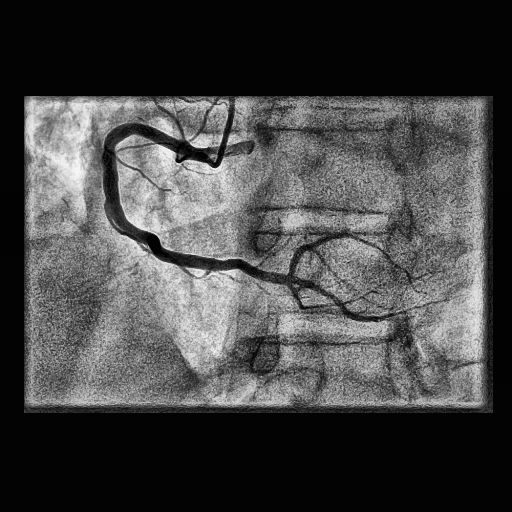pborca: (288, 232, 427, 295)
pda: (295, 276, 451, 323)
rca: (102, 123, 294, 285)
